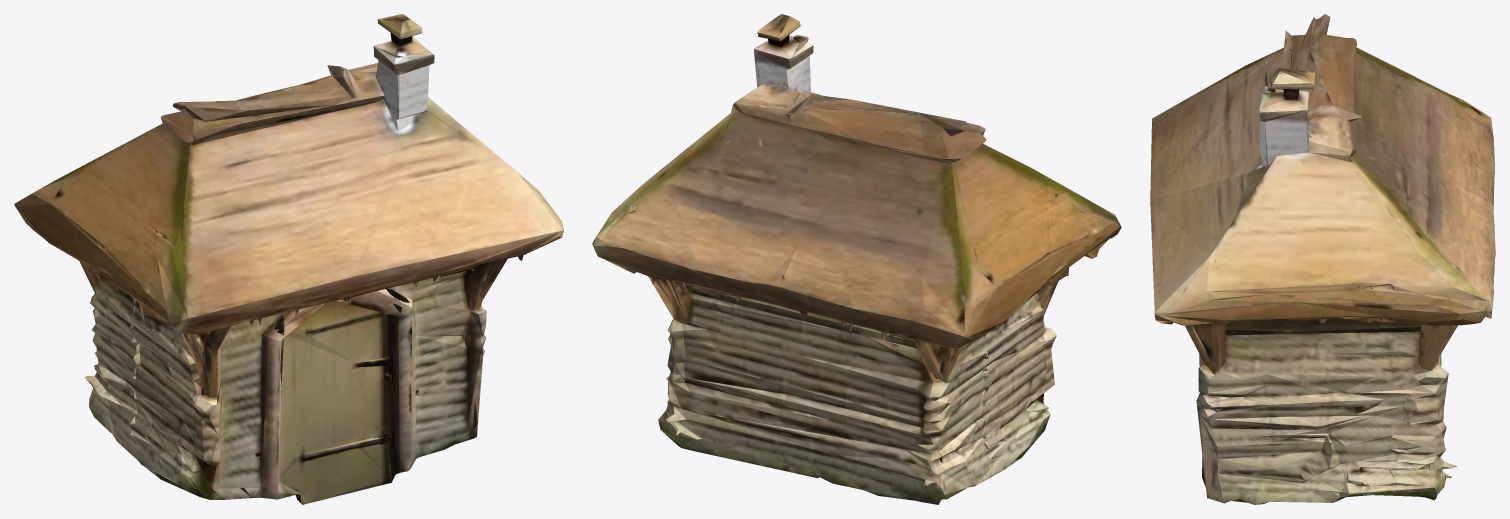
File: fen_witch_hut_01.glb
3 views of the same model, side by side, from view 1: azimuth 30°, elevation 25°; view 2: azimuth 150°, elevation 25°; view 3: azimuth 270°, elevation 25° (orthographic). The views are drawn at different scales.
Parts seen in each view (by area): view 1: geometry_0; view 2: geometry_0; view 3: geometry_0.
Part boxes in pixels (x1,y1,x2,y2): geometry_0: (14,14,563,504); geometry_0: (592,14,1121,504); geometry_0: (1150,14,1495,504).
Size of the model in its own units: 0.9677 by 0.9986 by 0.7063.
1 material, 1 textured.
